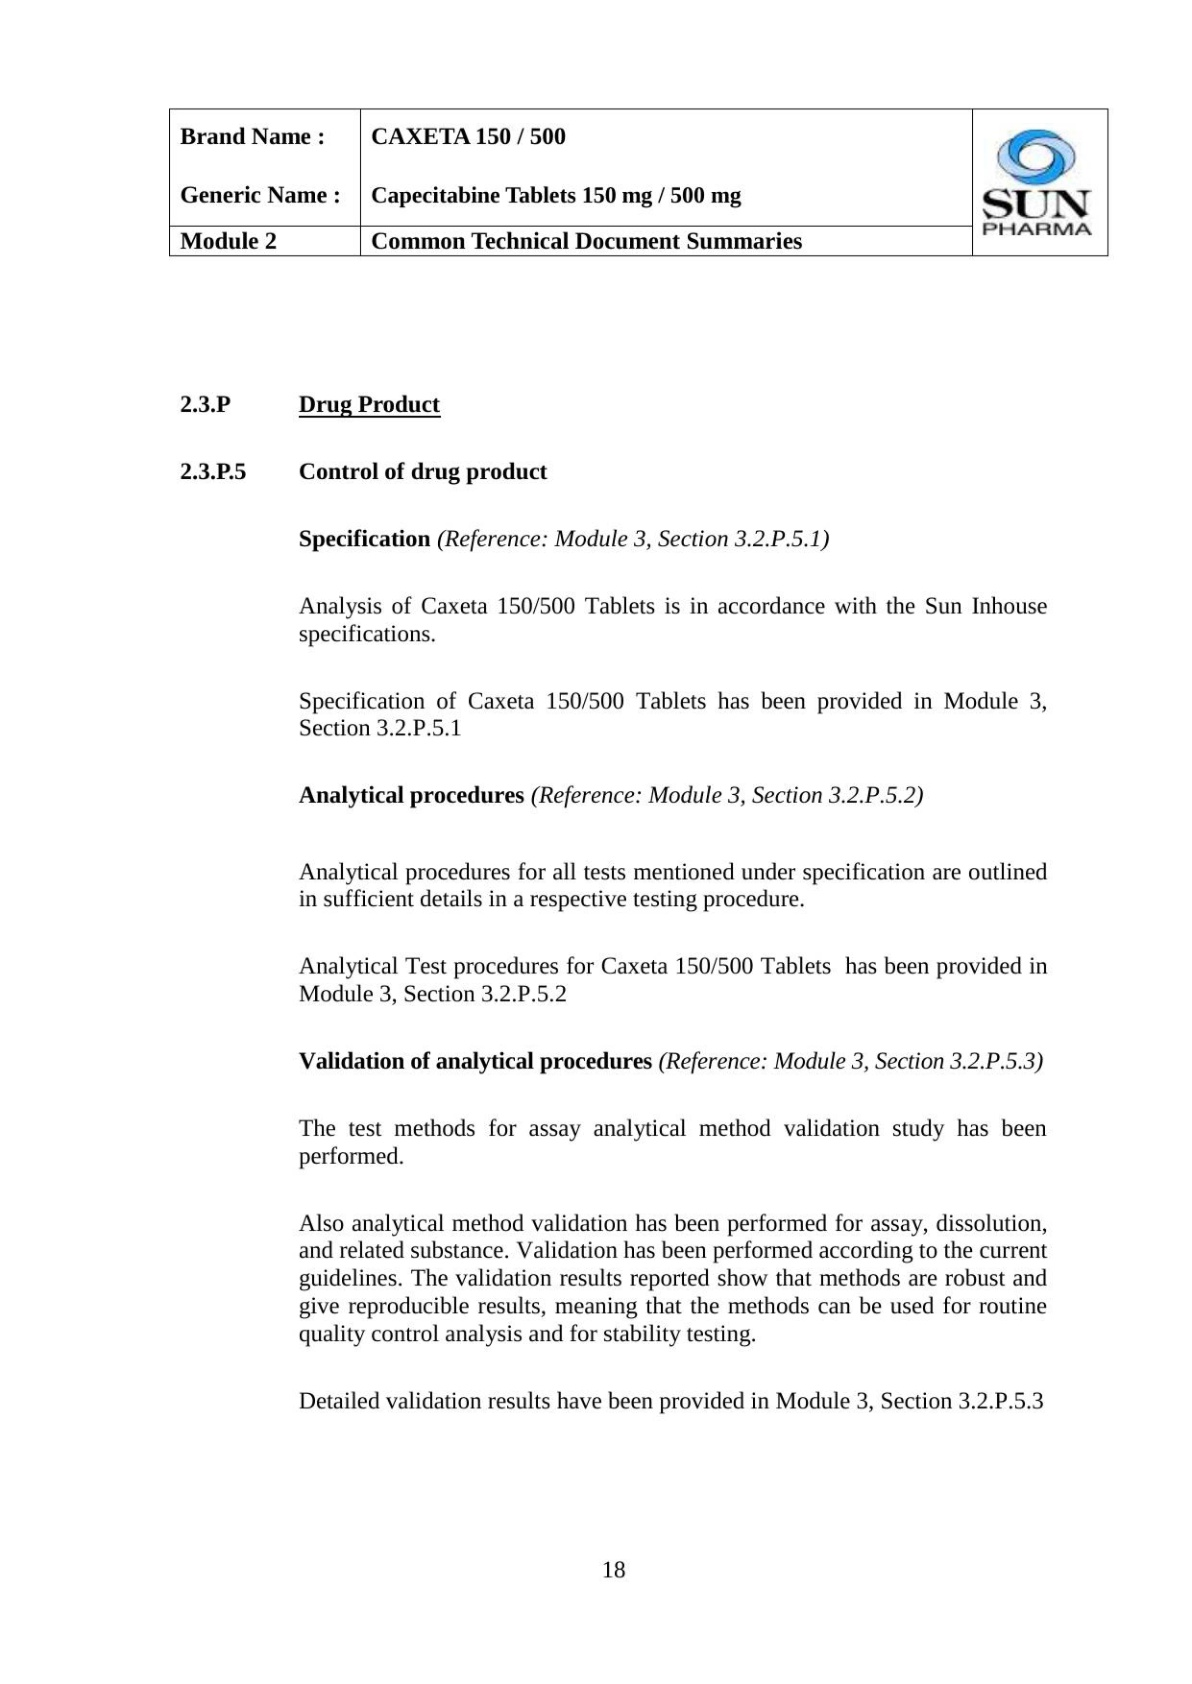merged_cells: (168, 106, 1109, 258)
